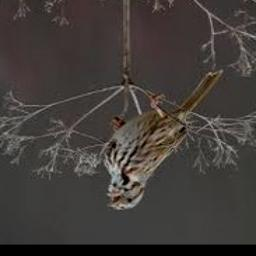Sparrow: (102, 69, 224, 211)
